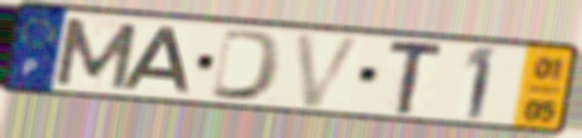1: (462, 45, 500, 123)
A: (119, 24, 194, 97)
D: (206, 26, 286, 104)
M: (50, 15, 142, 92)
T: (385, 40, 449, 117)
V: (291, 31, 368, 110)
